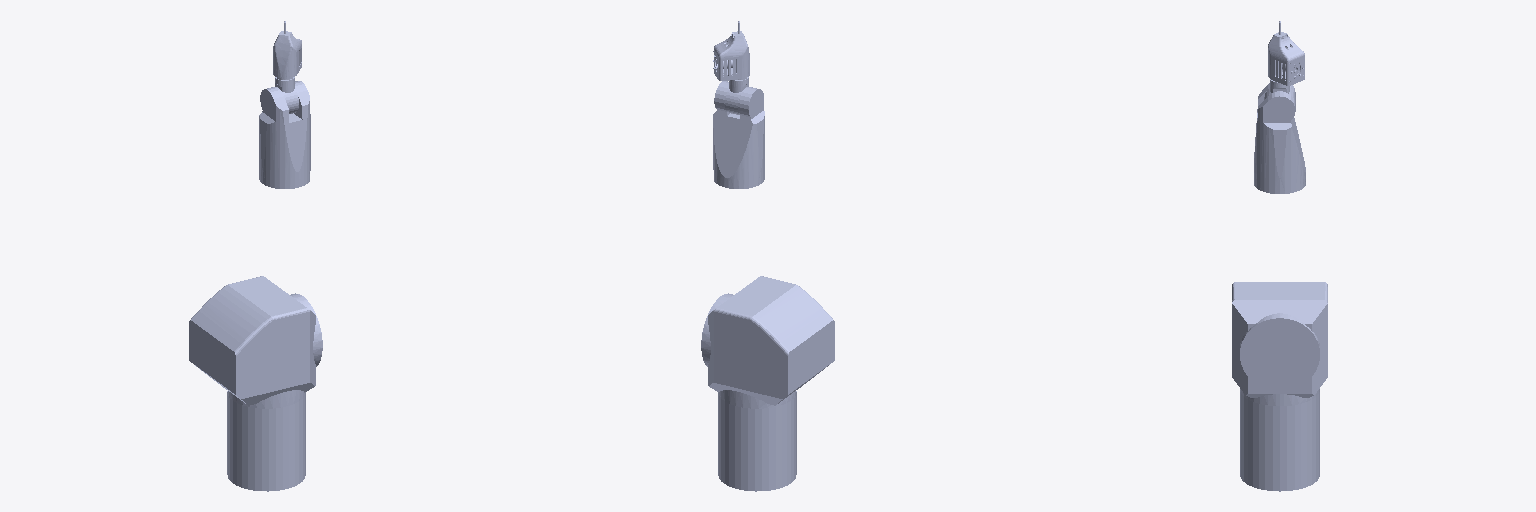
robot.urdf — Arm_2:
<robot
  name="Arm_2">
  <link
    name="base_link">
    <inertial>
      <origin
        xyz="-1.7542E-18 0.105 7.3479E-18"
        rpy="0 0 0" />
      <mass
        value="5.3438" />
      <inertia
        ixx="0"
        ixy="0"
        ixz="0"
        iyy="0"
        iyz="0"
        izz="0" />
    </inertial>
    <visual>
      <origin
        xyz="0 0 0"
        rpy="0 0 0" />
      <geometry>
        <mesh
          filename="package://Arm_2/meshes/base_link.STL" />
      </geometry>
      <material
        name="">
        <color
          rgba="0.79216 0.81961 0.93333 1" />
      </material>
    </visual>
    <collision>
      <origin
        xyz="0 0 0"
        rpy="0 0 0" />
      <geometry>
        <mesh
          filename="package://Arm_2/meshes/base_link.STL" />
      </geometry>
    </collision>
  </link>
  <link
    name="Link_1">
    <inertial>
      <origin
        xyz="-0.019385 -8.9375E-10 0.12294"
        rpy="0 0 0" />
      <mass
        value="10.375" />
      <inertia
        ixx="0"
        ixy="0"
        ixz="0"
        iyy="0"
        iyz="0"
        izz="0" />
    </inertial>
    <visual>
      <origin
        xyz="0 0 0"
        rpy="0 0 0" />
      <geometry>
        <mesh
          filename="package://Arm_2/meshes/Link_1.STL" />
      </geometry>
      <material
        name="">
        <color
          rgba="0.79216 0.81961 0.93333 1" />
      </material>
    </visual>
    <collision>
      <origin
        xyz="0 0 0"
        rpy="0 0 0" />
      <geometry>
        <mesh
          filename="package://Arm_2/meshes/Link_1.STL" />
      </geometry>
    </collision>
  </link>
  <joint
    name="Joint_1"
    type="continuous">
    <origin
      xyz="0 0 0.21"
      rpy="-6.123E-17 0 0" />
    <parent
      link="base_link" />
    <child
      link="Link_1" />
    <axis
      xyz="0 0 1" />
  </joint>
  <link
    name="Link_2">
    <inertial>
      <origin
        xyz="0.05 -1.1837E-15 0.13394"
        rpy="0 0 0" />
      <mass
        value="7.5525" />
      <inertia
        ixx="0"
        ixy="0"
        ixz="0"
        iyy="0"
        iyz="0"
        izz="0" />
    </inertial>
    <visual>
      <origin
        xyz="0 0 0"
        rpy="0 0 0" />
      <geometry>
        <mesh
          filename="package://Arm_2/meshes/Link_2.STL" />
      </geometry>
      <material
        name="">
        <color
          rgba="0.79216 0.81961 0.93333 1" />
      </material>
    </visual>
    <collision>
      <origin
        xyz="0 0 0"
        rpy="0 0 0" />
      <geometry>
        <mesh
          filename="package://Arm_2/meshes/Link_2.STL" />
      </geometry>
    </collision>
  </link>
  <joint
    name="Joint_2"
    type="continuous">
    <origin
      xyz="0.0975 0 0.131"
      rpy="0 0 0" />
    <parent
      link="Link_1" />
    <child
      link="Link_2" />
    <axis
      xyz="1 0 0" />
  </joint>
  <link
    name="Link_3">
    <inertial>
      <origin
        xyz="-0.0579256660316841 -5.15120599368384E-08 -0.0132210404676266"
        rpy="0 0 0" />
      <mass
        value="3.85373493908444" />
      <inertia
        ixx="0"
        ixy="0"
        ixz="0"
        iyy="0"
        iyz="0"
        izz="0" />
    </inertial>
    <visual>
      <origin
        xyz="0 0 0"
        rpy="0 0 0" />
      <geometry>
        <mesh
          filename="package://Arm_2/meshes/Link_3.STL" />
      </geometry>
      <material
        name="">
        <color
          rgba="0.792156862745098 0.819607843137255 0.933333333333333 1" />
      </material>
    </visual>
    <collision>
      <origin
        xyz="0 0 0"
        rpy="0 0 0" />
      <geometry>
        <mesh
          filename="package://Arm_2/meshes/Link_3.STL" />
      </geometry>
    </collision>
  </link>
  <joint
    name="Joint_3"
    type="continuous">
    <origin
      xyz="0 0 0.29"
      rpy="0 0 0" />
    <parent
      link="Link_2" />
    <child
      link="Link_3" />
    <axis
      xyz="1 0 0" />
  </joint>
  <link
    name="Link_4">
    <inertial>
      <origin
        xyz="8.4633E-08 -0.0036605 0.094571"
        rpy="0 0 0" />
      <mass
        value="1.9022" />
      <inertia
        ixx="0"
        ixy="0"
        ixz="0"
        iyy="0"
        iyz="0"
        izz="0" />
    </inertial>
    <visual>
      <origin
        xyz="0 0 0"
        rpy="0 0 0" />
      <geometry>
        <mesh
          filename="package://Arm_2/meshes/Link_4.STL" />
      </geometry>
      <material
        name="">
        <color
          rgba="0.79216 0.81961 0.93333 1" />
      </material>
    </visual>
    <collision>
      <origin
        xyz="0 0 0"
        rpy="0 0 0" />
      <geometry>
        <mesh
          filename="package://Arm_2/meshes/Link_4.STL" />
      </geometry>
    </collision>
  </link>
  <joint
    name="Joint_4"
    type="continuous">
    <origin
      xyz="-0.0485 0 0.11"
      rpy="0 0 0" />
    <parent
      link="Link_3" />
    <child
      link="Link_4" />
    <axis
      xyz="0 0 1" />
  </joint>
  <link
    name="Link_5">
    <inertial>
      <origin
        xyz="-4.0085E-11 -7.7436E-09 0.0092523"
        rpy="0 0 0" />
      <mass
        value="0.1701" />
      <inertia
        ixx="0"
        ixy="0"
        ixz="0"
        iyy="0"
        iyz="0"
        izz="0" />
    </inertial>
    <visual>
      <origin
        xyz="0 0 0"
        rpy="0 0 0" />
      <geometry>
        <mesh
          filename="package://Arm_2/meshes/Link_5.STL" />
      </geometry>
      <material
        name="">
        <color
          rgba="0.79216 0.81961 0.93333 1" />
      </material>
    </visual>
    <collision>
      <origin
        xyz="0 0 0"
        rpy="0 0 0" />
      <geometry>
        <mesh
          filename="package://Arm_2/meshes/Link_5.STL" />
      </geometry>
    </collision>
  </link>
  <joint
    name="Joint_5"
    type="continuous">
    <origin
      xyz="0 0 0.2"
      rpy="0 0 0" />
    <parent
      link="Link_4" />
    <child
      link="Link_5" />
    <axis
      xyz="1 0 0" />
  </joint>
  <link
    name="Link_6">
    <inertial>
      <origin
        xyz="0.012154 0.012164 0.047001"
        rpy="0 0 0" />
      <mass
        value="0.19074" />
      <inertia
        ixx="0.0001307"
        ixy="-3.7989E-06"
        ixz="6.8496E-06"
        iyy="0.00013074"
        iyz="6.9285E-06"
        izz="5.3313E-05" />
    </inertial>
    <visual>
      <origin
        xyz="0 0 0"
        rpy="0 0 0" />
      <geometry>
        <mesh
          filename="package://Arm_2/meshes/Link_6.STL" />
      </geometry>
      <material
        name="">
        <color
          rgba="0.79216 0.81961 0.93333 1" />
      </material>
    </visual>
    <collision>
      <origin
        xyz="0 0 0"
        rpy="0 0 0" />
      <geometry>
        <mesh
          filename="package://Arm_2/meshes/Link_6.STL" />
      </geometry>
    </collision>
  </link>
  <joint
    name="Joint_6"
    type="continuous">
    <origin
      xyz="0 0 0.0555000000000004"
      rpy="0 0 0" />
    <parent
      link="Link_5" />
    <child
      link="Link_6" />
    <axis
      xyz="0 0 1" />
  </joint>
</robot>

--- Facts derived from the render (not from the file) ---
The picture shows the robot from 3 angles, left to right: view 1: azimuth 30°, elevation 25°; view 2: azimuth 150°, elevation 25°; view 3: azimuth 270°, elevation 25°; orthographic projection.
Robot: Arm_2 — 7 links, 6 joints (6 continuous); root link base_link; default pose: every joint at zero.
Visible links, largest first — view 1: Link_1, base_link, Link_4, Link_6; view 2: Link_1, base_link, Link_4, Link_6; view 3: Link_1, base_link, Link_4, Link_6.
Link boxes in pixels (x1,y1,x2,y2): Link_1: (189, 276, 322, 408); base_link: (227, 391, 305, 491); Link_4: (259, 81, 310, 188); Link_6: (273, 21, 301, 81); Link_1: (701, 276, 834, 408); base_link: (718, 391, 796, 491); Link_4: (713, 81, 764, 188); Link_6: (713, 21, 749, 81); Link_1: (1232, 282, 1327, 405); base_link: (1240, 392, 1319, 491); Link_4: (1254, 83, 1305, 193); Link_6: (1268, 21, 1304, 85).
Size in the robot's own frame: 0.2515 by 0.214 by 1.14 metres.
5 mesh visuals loaded from 7 distinct referenced files (5 binary STL); not drawn: 2 (reference not matched to a file when rendering).